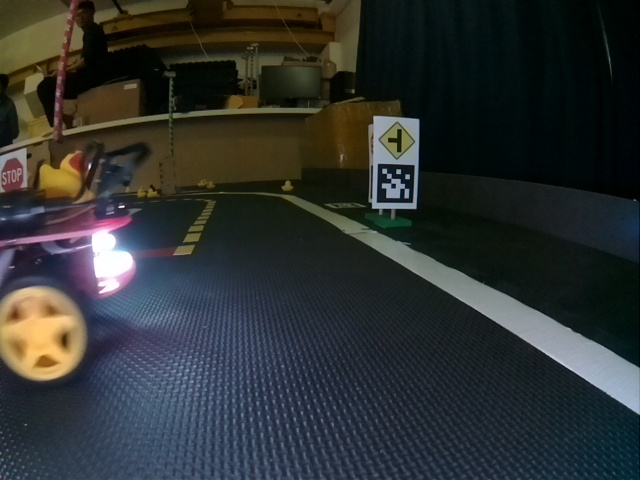Duckie: (40, 151, 83, 200), (282, 180, 290, 190), (137, 188, 145, 197), (148, 189, 155, 197)
Intersection sign: (376, 121, 416, 160)
QR code: (378, 163, 415, 204), (325, 201, 365, 211)
Stop sign: (3, 156, 25, 195)
